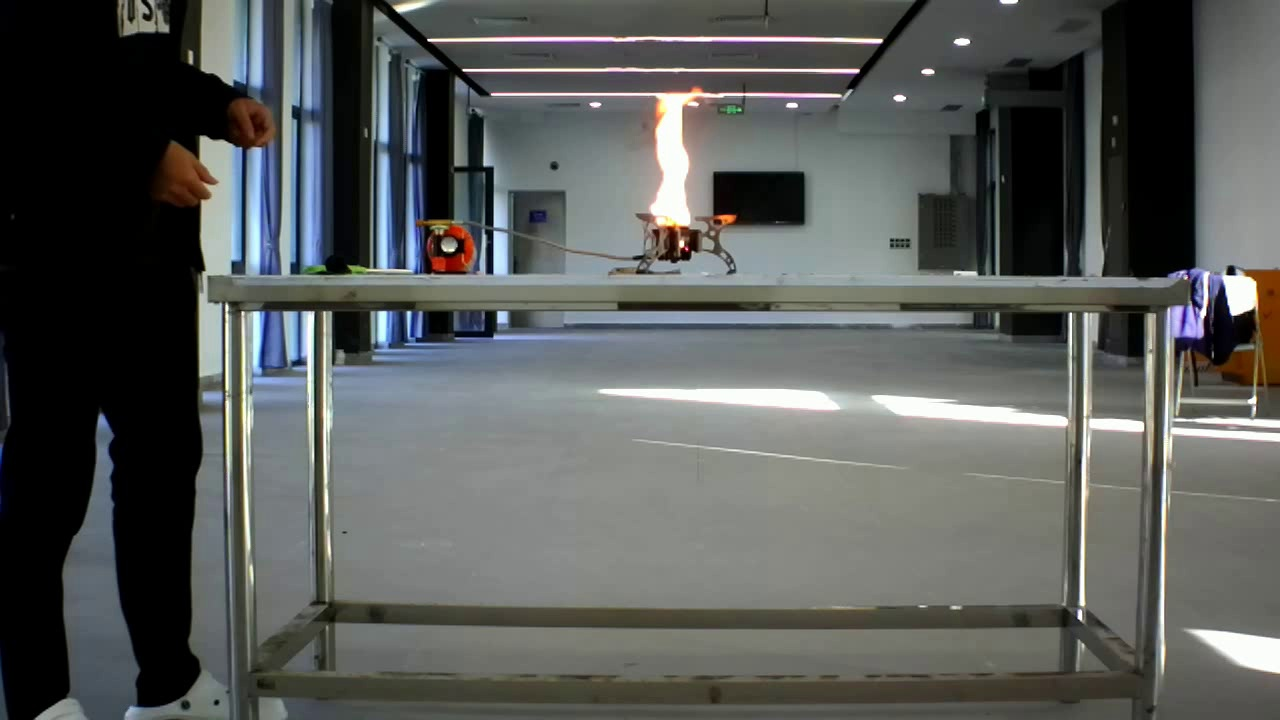Fire: (624, 83, 741, 265)
